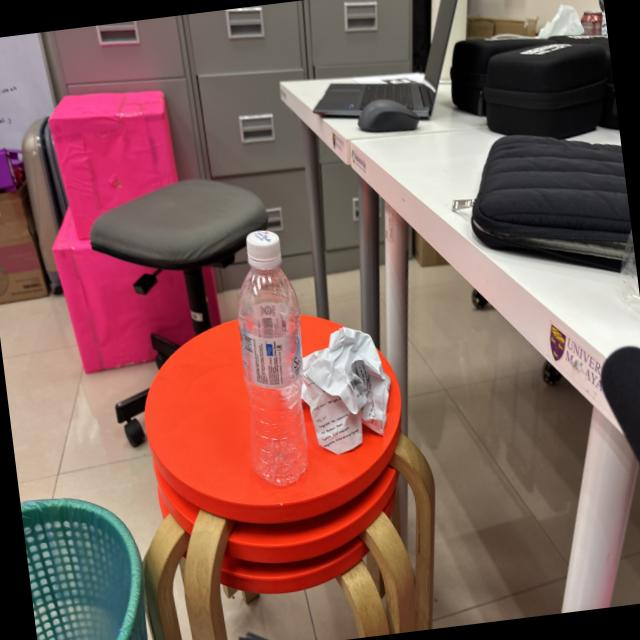crumpled_paper: (287, 310, 410, 466)
plastic_bottle: (218, 219, 324, 497)
